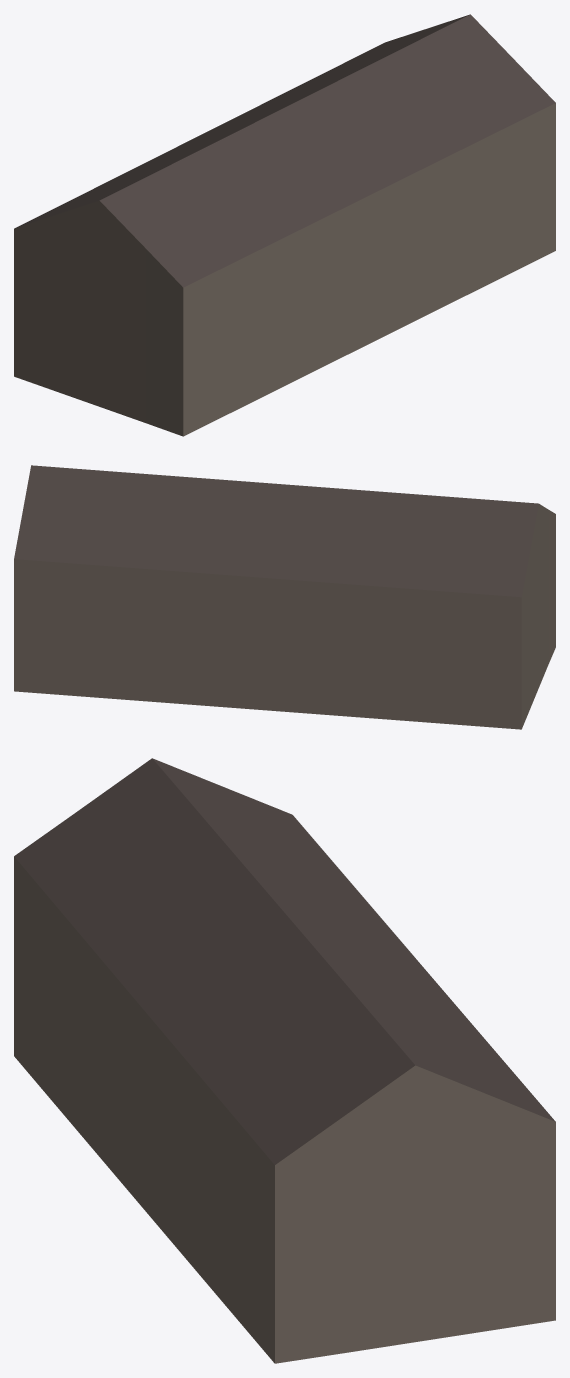
3 views of the same model, one above another, from view 1: azimuth 30°, elevation 25°; view 2: azimuth 150°, elevation 25°; view 3: azimuth 270°, elevation 25° (orthographic). The views are drawn at different scales.
Parts seen in each view (by area): view 1: HP-w438965278; view 2: HP-w438965278; view 3: HP-w438965278.
Boxes of the visible parts, x1,y1,x2,y2 form: HP-w438965278: [14, 14, 555, 436]; HP-w438965278: [14, 465, 555, 729]; HP-w438965278: [14, 758, 555, 1363].
Bounding box in the file's own units: 34.09 × 12.55 × 22.27.
